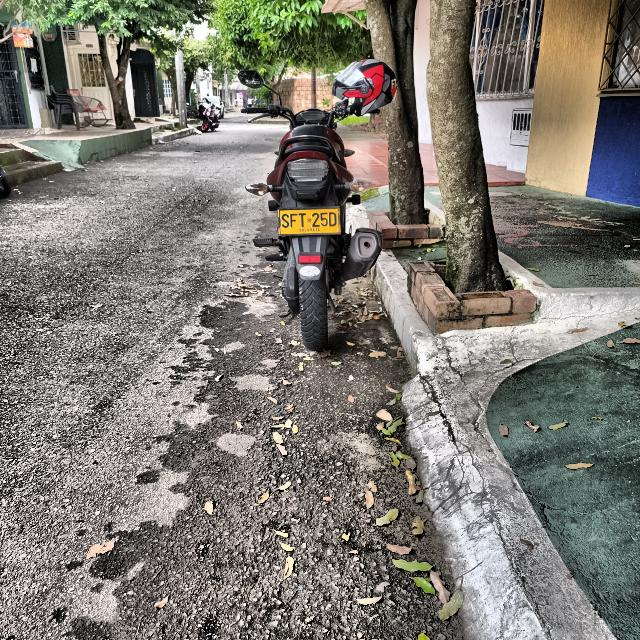plate: (278, 206, 341, 236)
